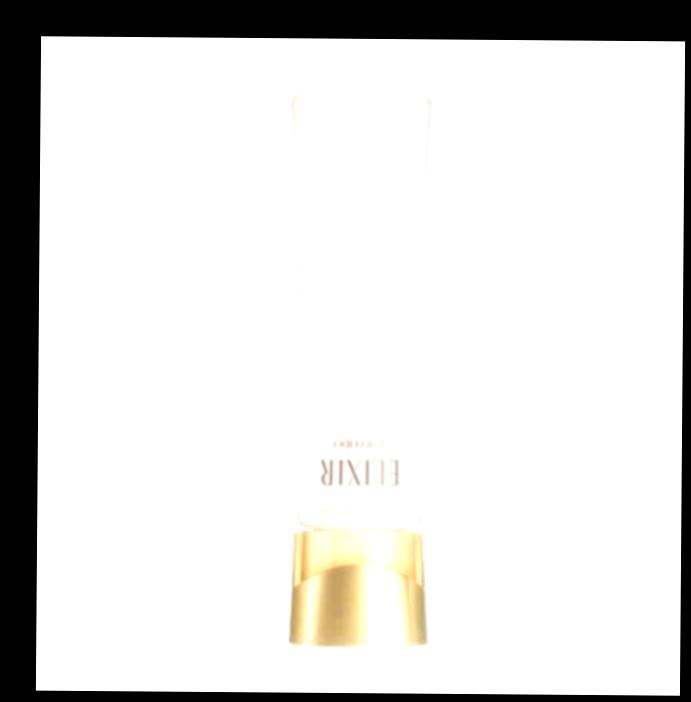cosmetic: (284, 88, 430, 648)
